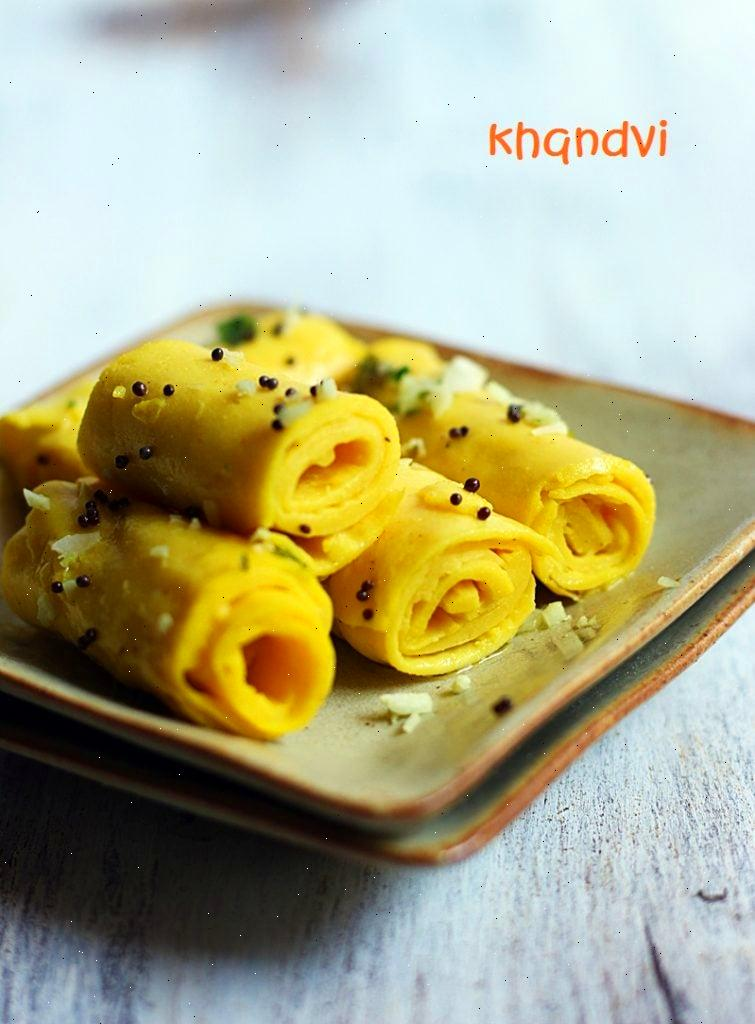khandvi: (10, 302, 662, 698)
